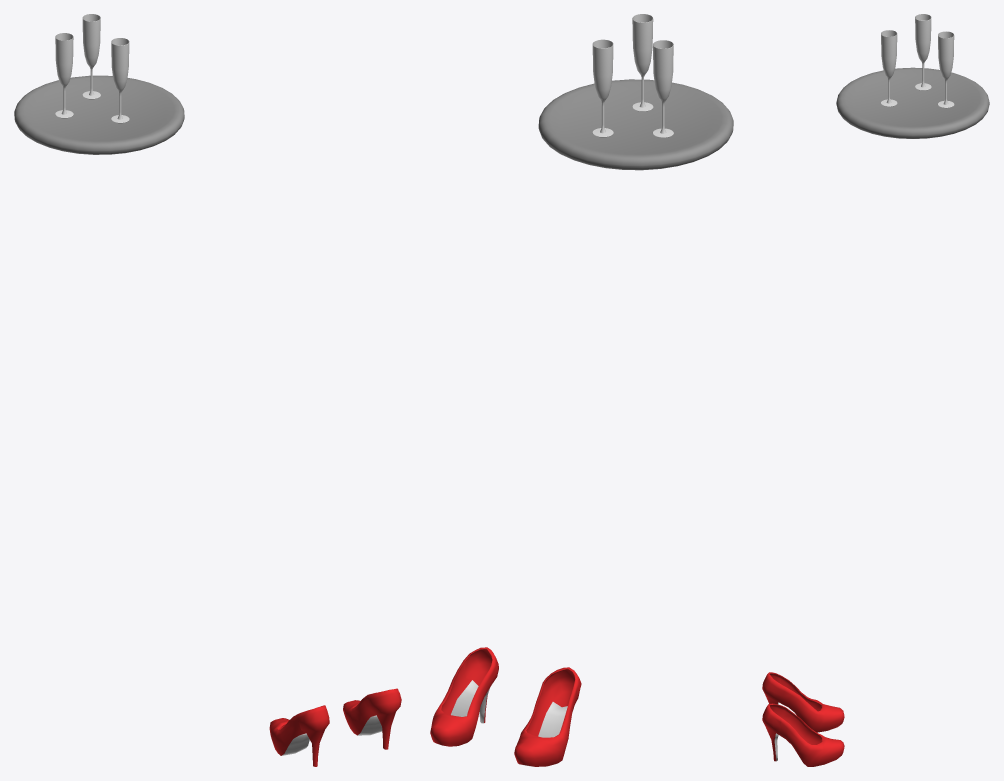
The model's file is ShoesAndTepsi.fbx.
3 views of the same model, side by side, from view 1: azimuth 30°, elevation 25°; view 2: azimuth 150°, elevation 25°; view 3: azimuth 270°, elevation 25° (orthographic). The views are drawn at different scales.
Parts seen in each view (by area): view 1: Cylinder.001, 3DGeom~5_Defintion_001.001, 3DGeom~5_Defintion_001.002; view 2: Cylinder.001, 3DGeom~5_Defintion_001.001, 3DGeom~5_Defintion_001.002; view 3: Cylinder.001, 3DGeom~5_Defintion_001.002, 3DGeom~5_Defintion_001.001.
Boxes of the visible parts, x1=… form: Cylinder.001: x1=14, y1=14, x2=184, y2=154; 3DGeom~5_Defintion_001.001: x1=269, y1=705, x2=329, y2=766; 3DGeom~5_Defintion_001.002: x1=343, y1=688, x2=401, y2=749; Cylinder.001: x1=538, y1=14, x2=733, y2=170; 3DGeom~5_Defintion_001.001: x1=514, y1=667, x2=581, y2=766; 3DGeom~5_Defintion_001.002: x1=430, y1=647, x2=498, y2=746; Cylinder.001: x1=836, y1=14, x2=989, y2=138; 3DGeom~5_Defintion_001.002: x1=762, y1=703, x2=844, y2=766; 3DGeom~5_Defintion_001.001: x1=762, y1=672, x2=844, y2=732.
Size of the model in its own units: 0.7252 by 1.62 by 0.5229.
